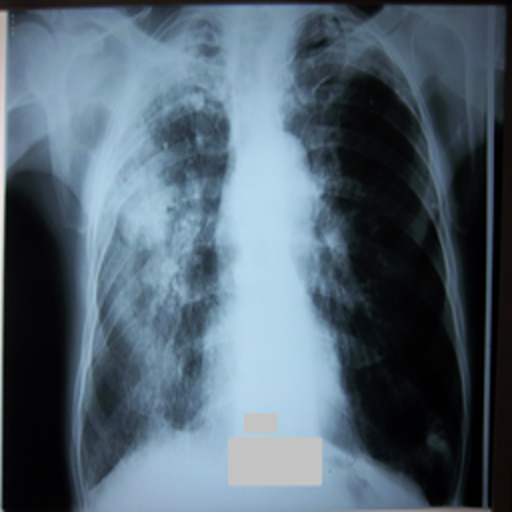TB: (108, 33, 218, 346)
